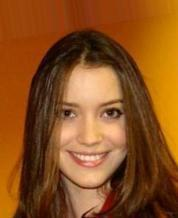face: (56, 102, 122, 167)
